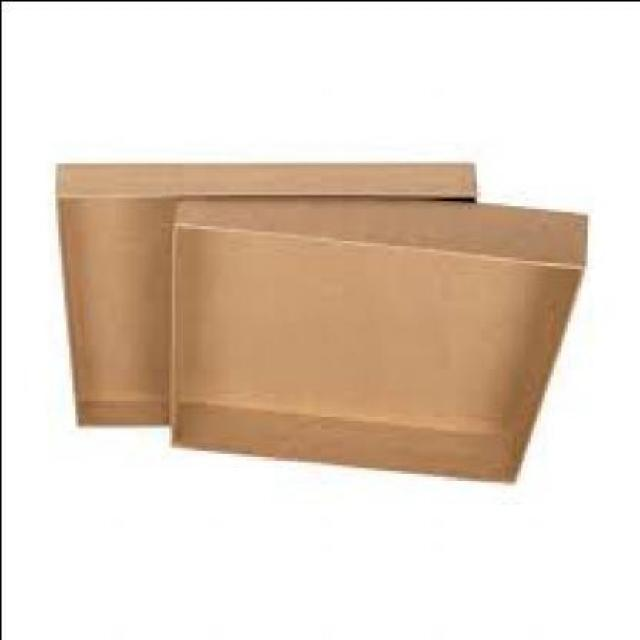box: (162, 205, 586, 486), (51, 163, 472, 431)
